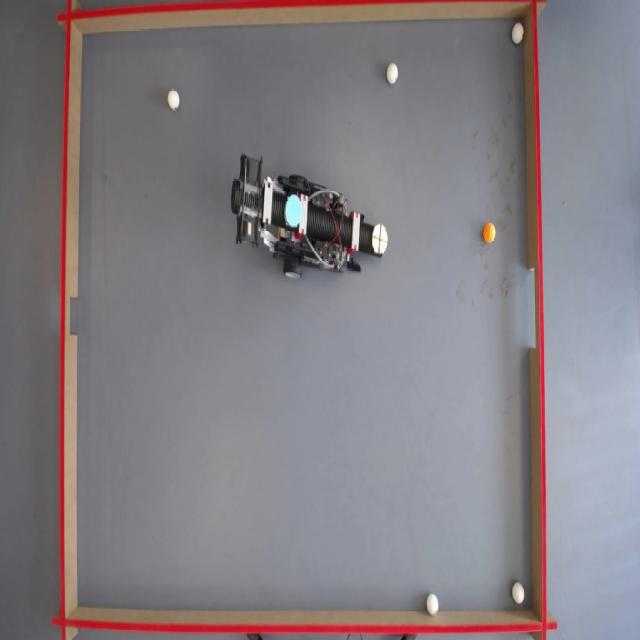orange: (484, 224, 498, 245)
robot: (228, 160, 390, 278)
robot-front: (373, 224, 390, 255)
robot-rear: (284, 196, 305, 230)
white: (513, 584, 527, 606), (512, 24, 526, 46), (426, 593, 440, 615), (168, 90, 182, 111), (386, 64, 399, 85)
